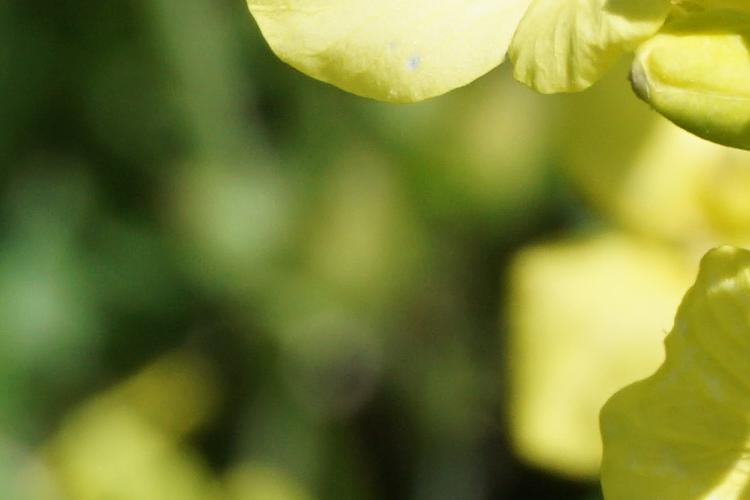yellow: (317, 8, 744, 137)
